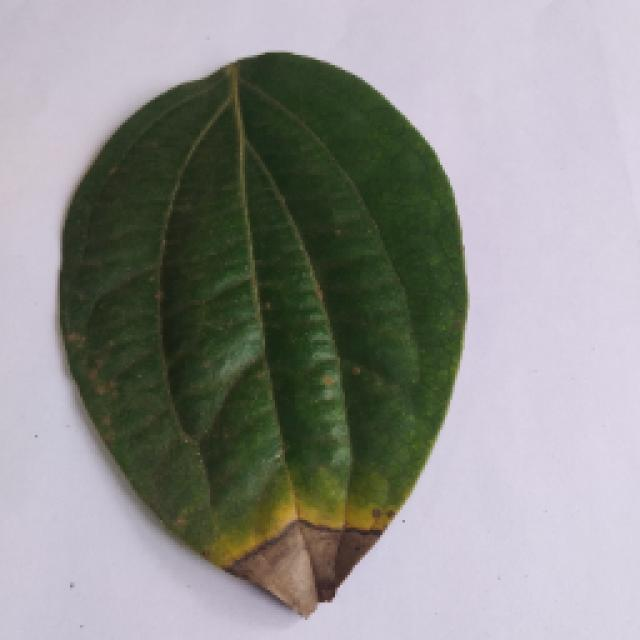footrot: (43, 62, 475, 622)
